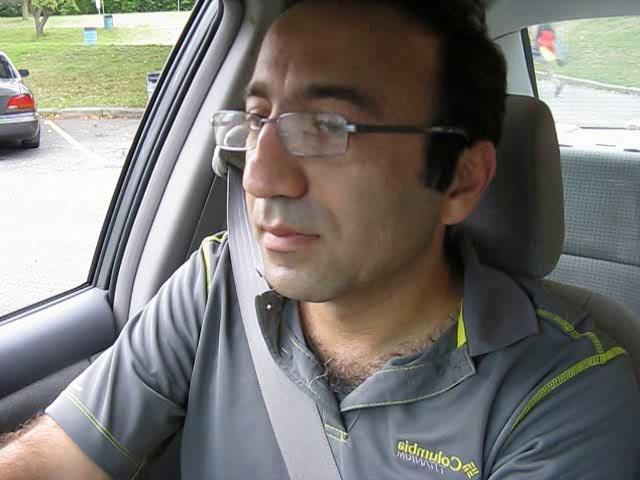close_eyeL: (229, 99, 274, 141)
close_eyeR: (292, 99, 368, 155)
no_yawn: (239, 206, 335, 266)
